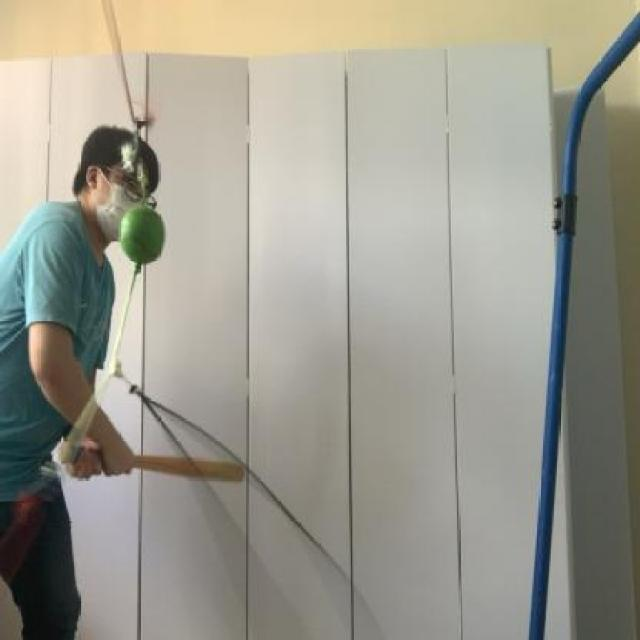baseball: (113, 197, 170, 260)
